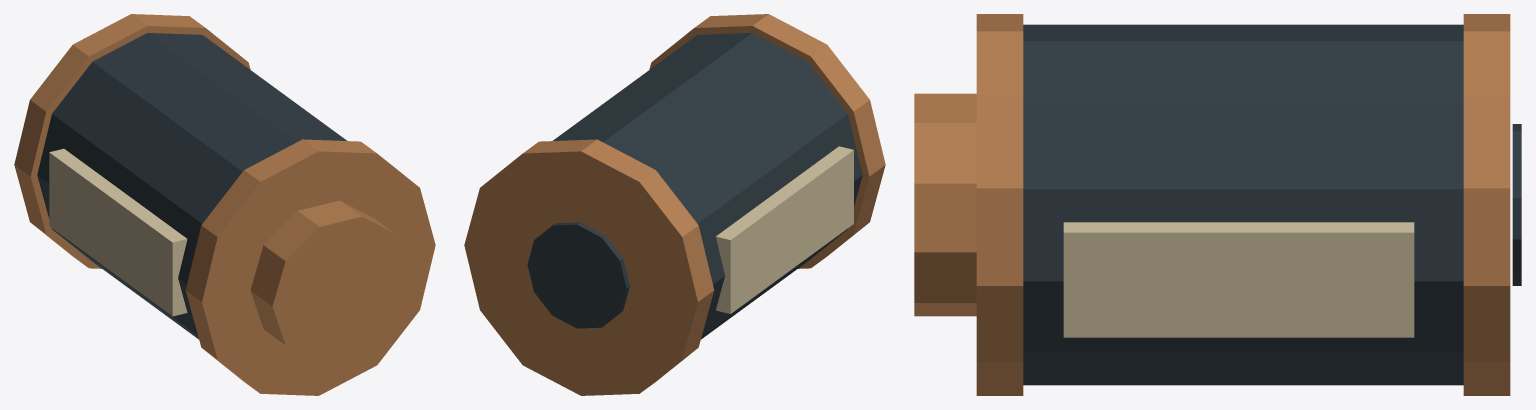
Rendered from AEW_Suppressor_GraveHush.fbx.
The picture shows the model from 3 angles, left to right: view 1: azimuth 30°, elevation 25°; view 2: azimuth 150°, elevation 25°; view 3: azimuth 270°, elevation 25°; orthographic projection. The views are drawn at different scales.
Visible parts, largest first — view 1: AEW_Suppressor_GraveHush; view 2: AEW_Suppressor_GraveHush; view 3: AEW_Suppressor_GraveHush.
Boxes of the visible parts, left/top/right/bottom form: AEW_Suppressor_GraveHush: left=14, top=14, right=435, bottom=395; AEW_Suppressor_GraveHush: left=464, top=14, right=885, bottom=395; AEW_Suppressor_GraveHush: left=914, top=14, right=1521, bottom=395.
Size of the model in its own units: 0.1654 by 0.1654 by 0.262.
